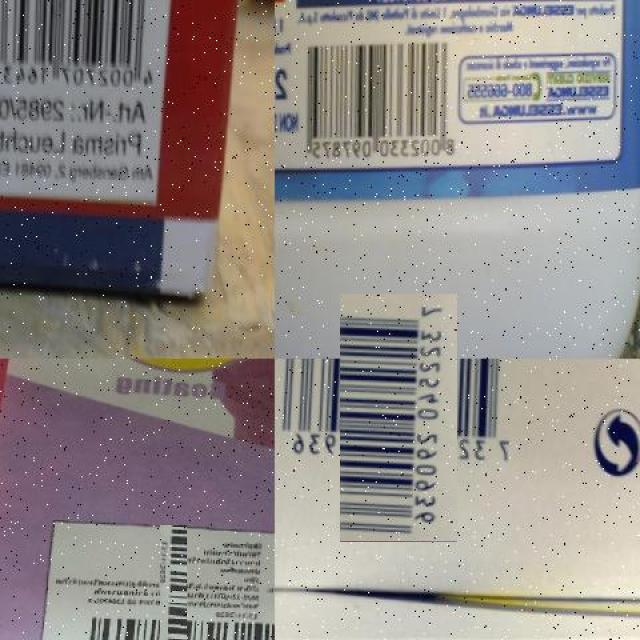Barcode: (307, 326, 490, 510), (294, 31, 455, 172), (0, 0, 166, 98), (115, 569, 231, 640)
